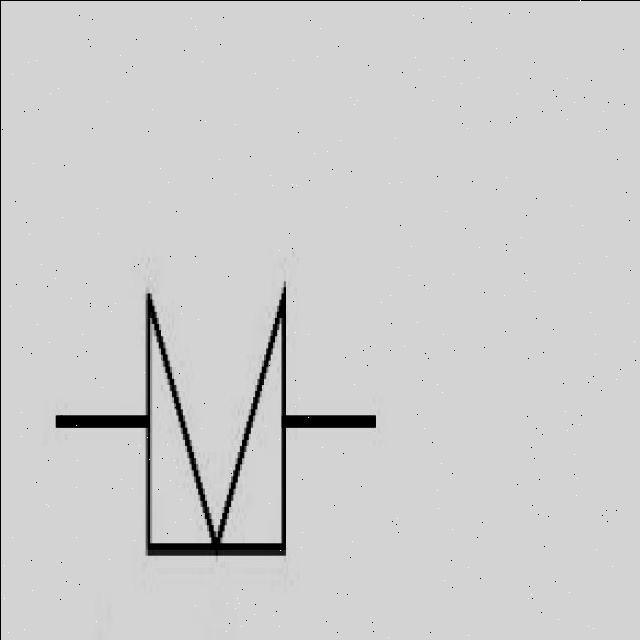Diaphragm Valve: (121, 220, 328, 614)
